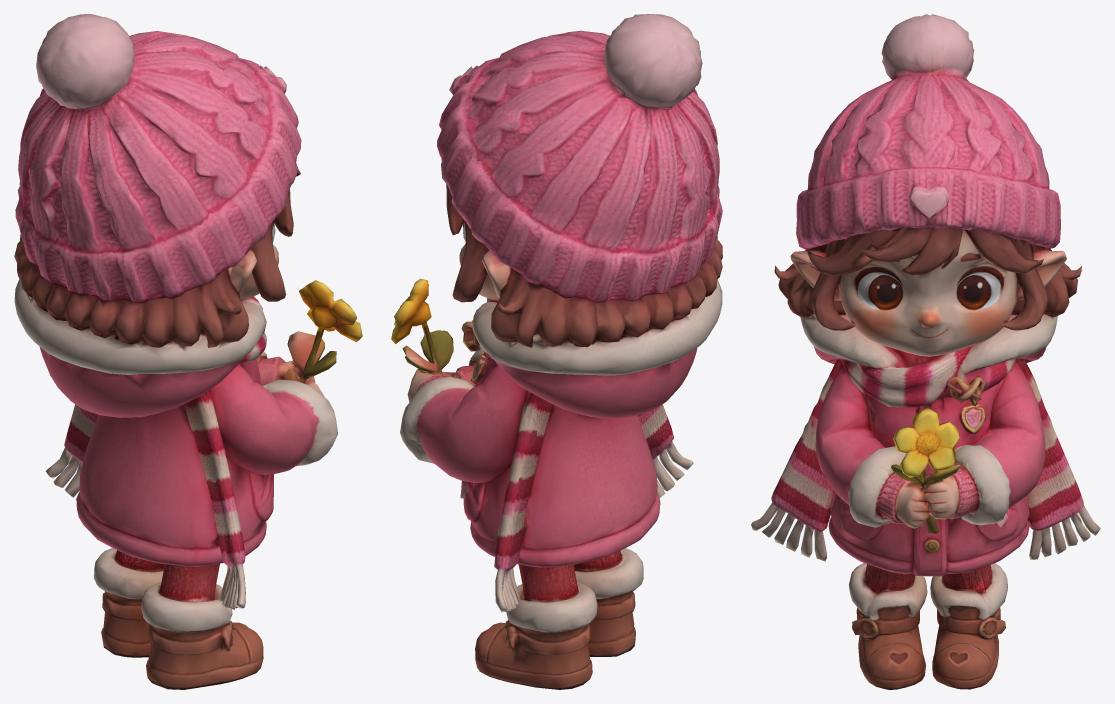
Rendered from girl_scarf.glb.
3 renders of one model, left to right at view 1: azimuth 30°, elevation 25°; view 2: azimuth 150°, elevation 25°; view 3: azimuth 270°, elevation 25°, orthographic. The views are drawn at different scales.
Visible parts, largest first — view 1: tripo_node_5ac52b94-3d94-4ca9-9c5f-aa719f638048; view 2: tripo_node_5ac52b94-3d94-4ca9-9c5f-aa719f638048; view 3: tripo_node_5ac52b94-3d94-4ca9-9c5f-aa719f638048.
Part boxes in pixels (<box>): tripo_node_5ac52b94-3d94-4ca9-9c5f-aa719f638048: <box>14,14,362,689</box>; tripo_node_5ac52b94-3d94-4ca9-9c5f-aa719f638048: <box>391,14,722,689</box>; tripo_node_5ac52b94-3d94-4ca9-9c5f-aa719f638048: <box>751,14,1100,689</box>.
Bounding box in the file's own units: 0.1228 × 0.2499 × 0.1305.
1 material, 1 textured.
